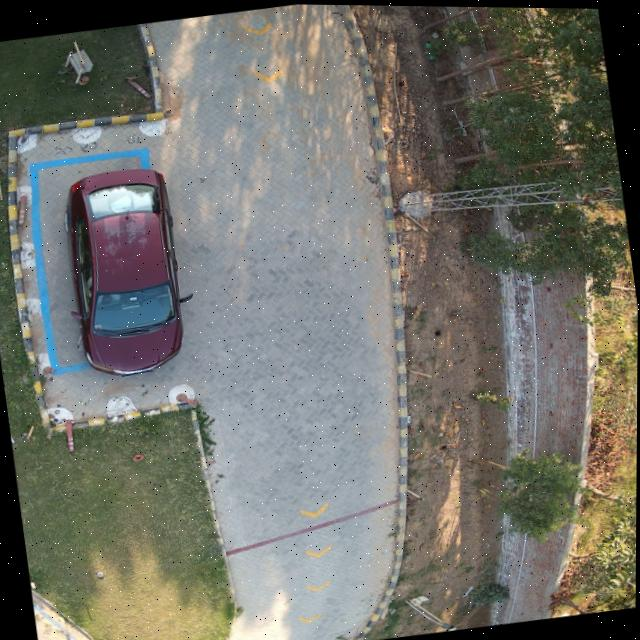car: (65, 168, 187, 376)
